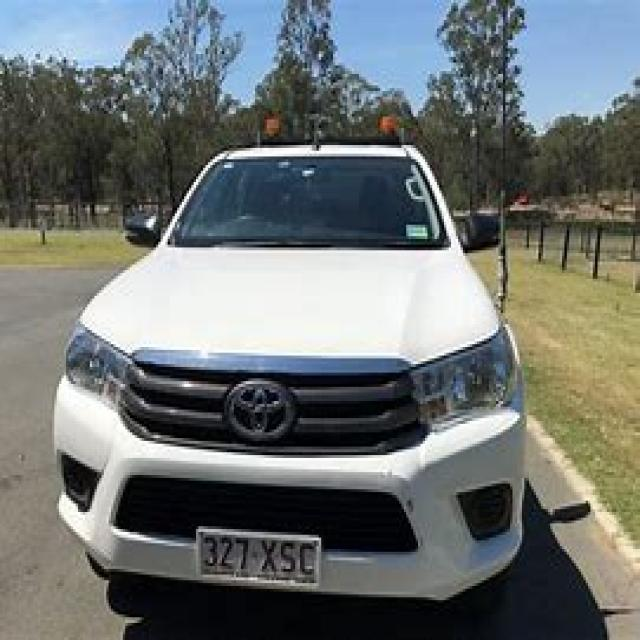light_vehicle: (35, 94, 552, 603)
